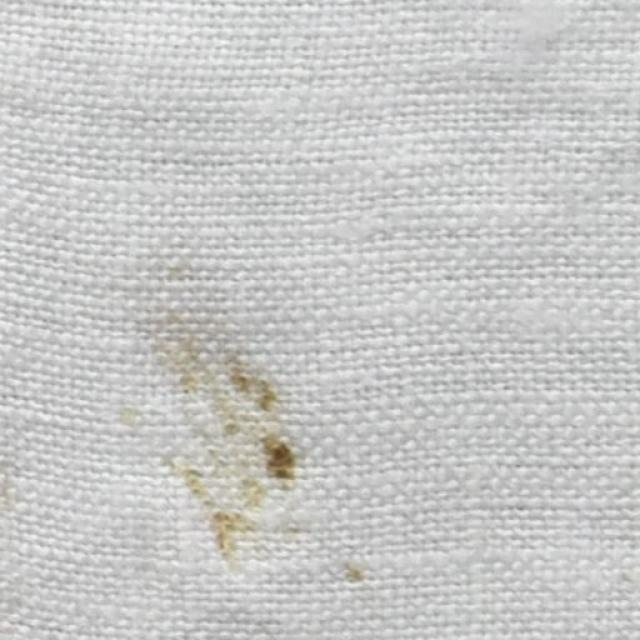Stain: (150, 322, 309, 564)
